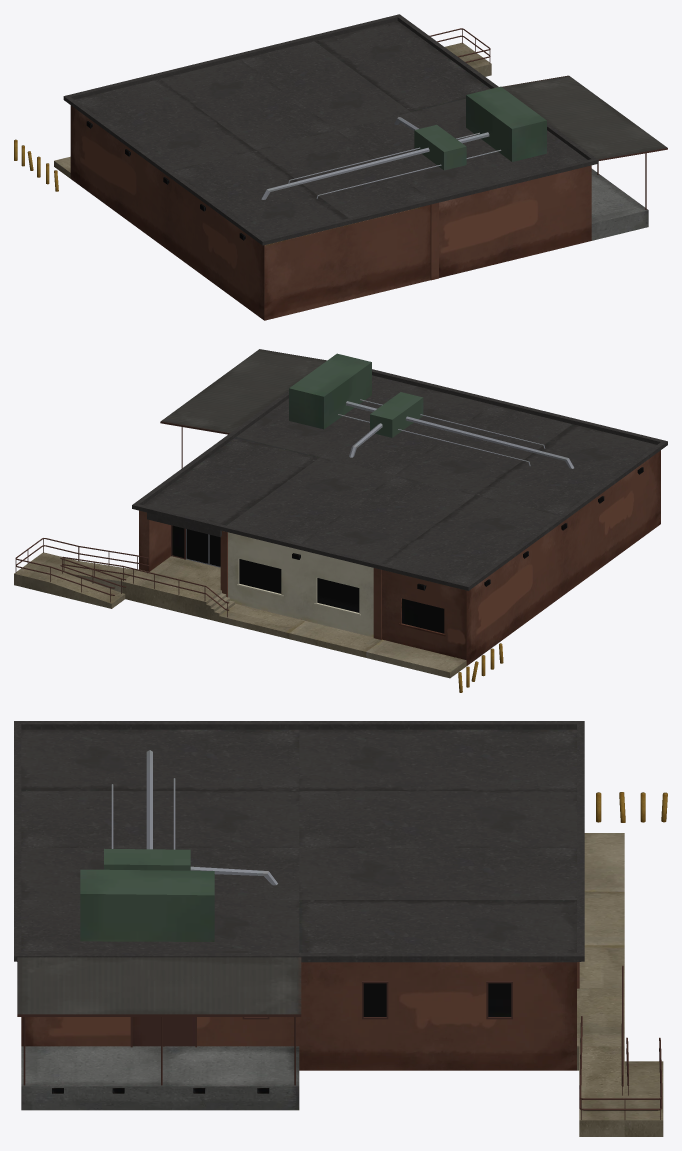
The model's file is correio.glb.
3 views of the same model, one above another, from view 1: azimuth 30°, elevation 25°; view 2: azimuth 150°, elevation 25°; view 3: azimuth 270°, elevation 25° (orthographic). The views are drawn at different scales.
Parts seen in each view (by area): view 1: Plane; view 2: Plane; view 3: Plane.
Boxes of the visible parts, bbox=[...] form: Plane: bbox=[14, 14, 667, 320]; Plane: bbox=[14, 349, 667, 692]; Plane: bbox=[14, 721, 667, 1136].
Size of the model in its own units: 36.01 by 8.53 by 31.68.
1 material, 1 textured.
